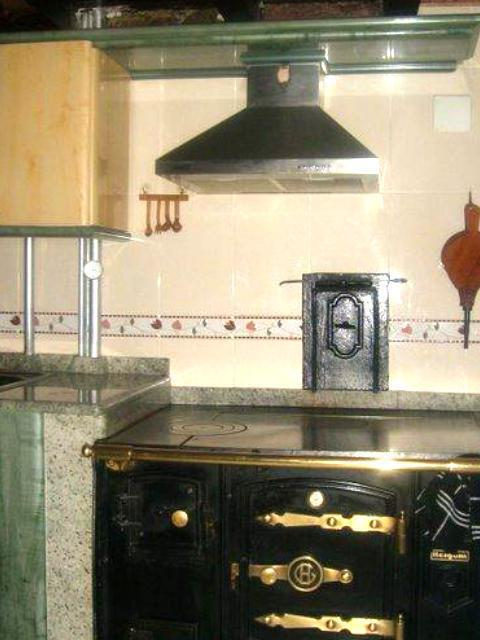Electrodomestico: (106, 434, 480, 640)
Lavaplatos: (0, 288, 56, 414)
